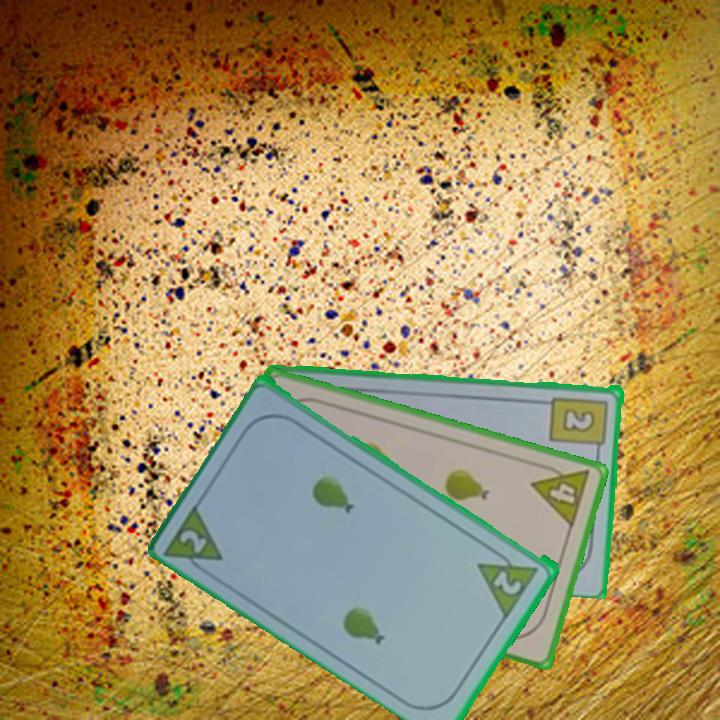2b: (548, 392, 611, 457)
2p: (490, 566, 525, 598), (176, 525, 211, 557)
4p: (528, 458, 593, 531)
